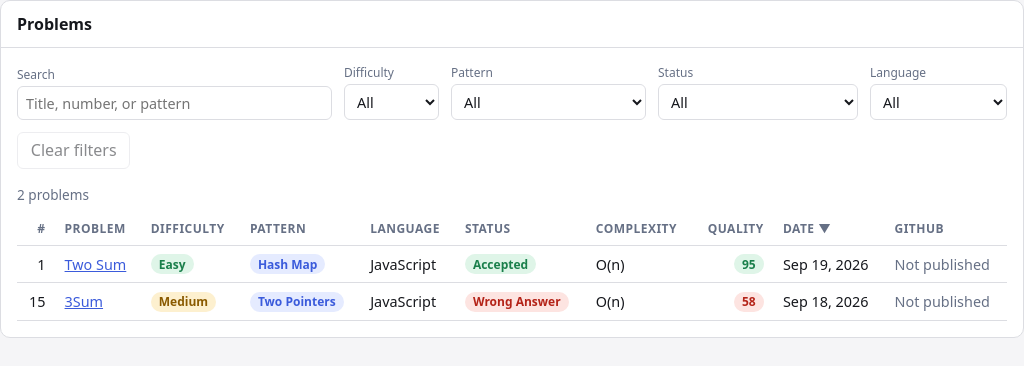
ProblemsPage › shows an empty state when the filters match nothing, and clears them
The width and height of the screenshot is (1024, 366).
Select "Rust" in the dropdown labelled "Language" at [938, 102], box [870,84,1007,120]
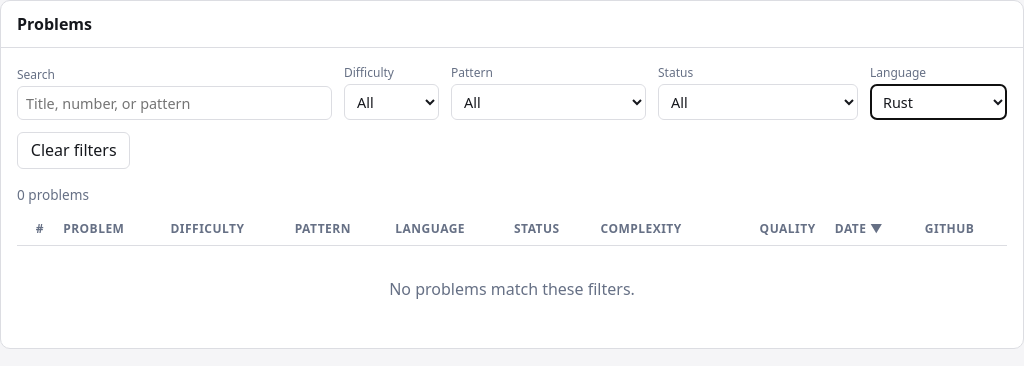
Now the text "No problems match these filters." is shown, box [389,278,635,300]
Click the button "Clear filters" at [74, 150], box [17,132,130,169]
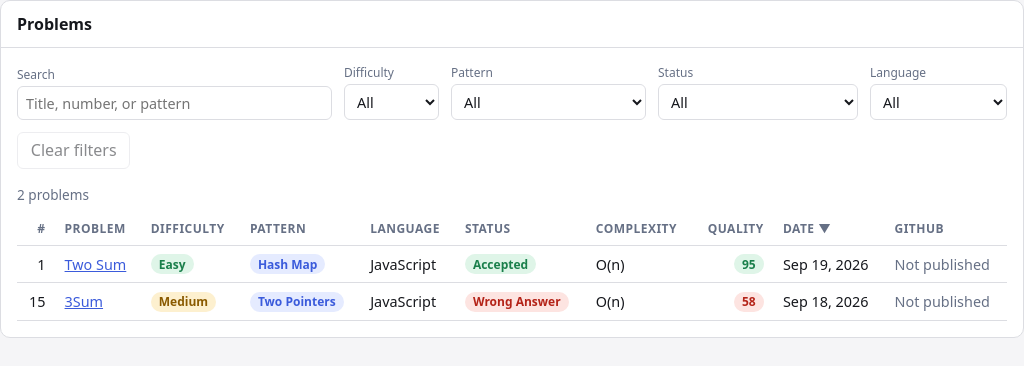
Now the number of rows with test id "problem-row" is 2, box [17,245,1007,283]; [17,283,1007,320]
